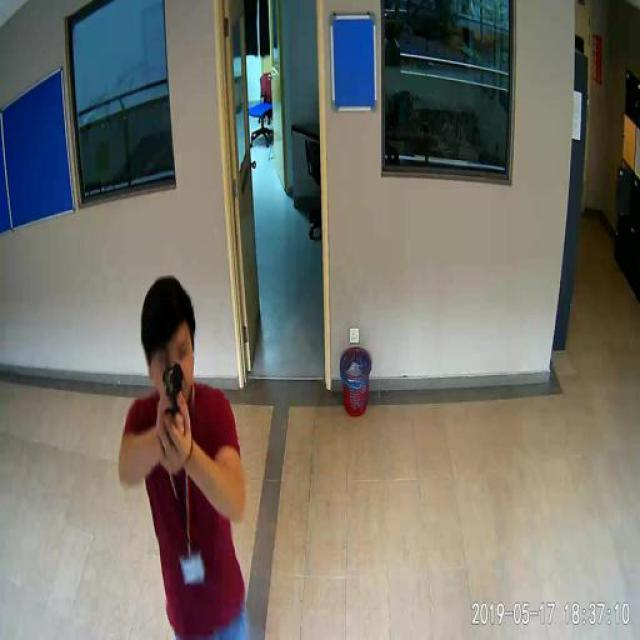weapon: (160, 366, 188, 450)
